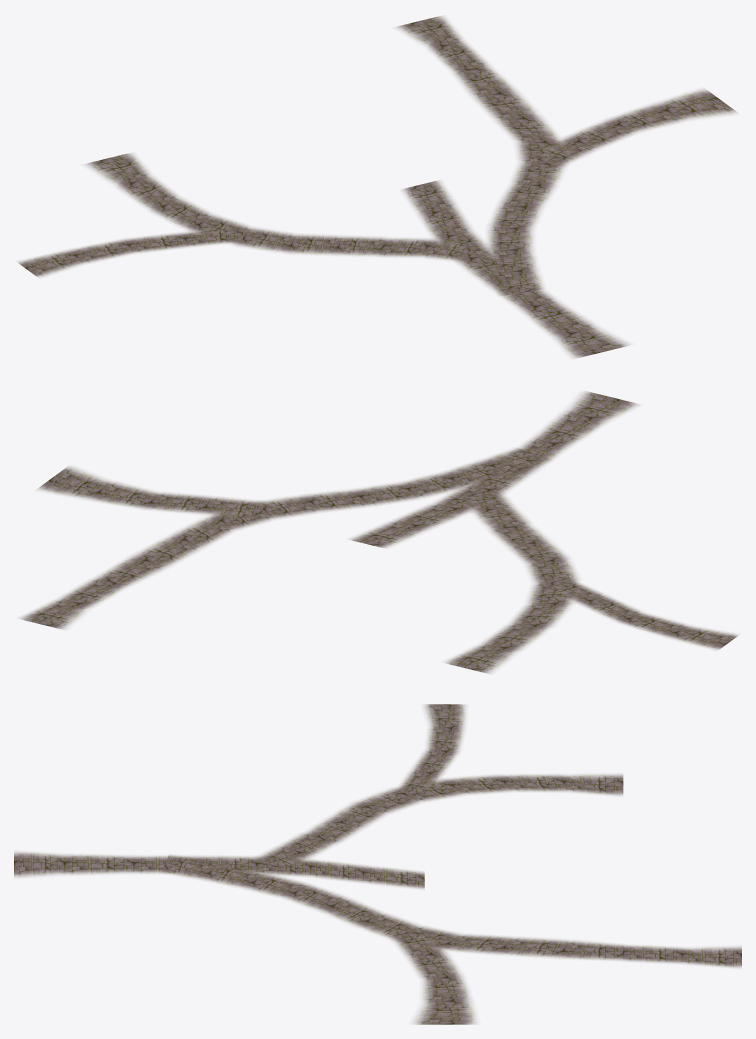
The model's file is Path.glb.
3 views of the same model, one above another, from view 1: azimuth 30°, elevation 25°; view 2: azimuth 150°, elevation 25°; view 3: azimuth 270°, elevation 25° (orthographic). The views are drawn at different scales.
Parts seen in each view (by area): view 1: Path; view 2: Path; view 3: Path.
Boxes of the visible parts, x1=… form: Path: x1=18, y1=16, x2=736, y2=358; Path: x1=19, y1=391, x2=738, y2=673; Path: x1=14, y1=704, x2=741, y2=1024.
Size of the model in its own units: 59.97 by 0.1078 by 57.64.
1 material, 1 textured.
